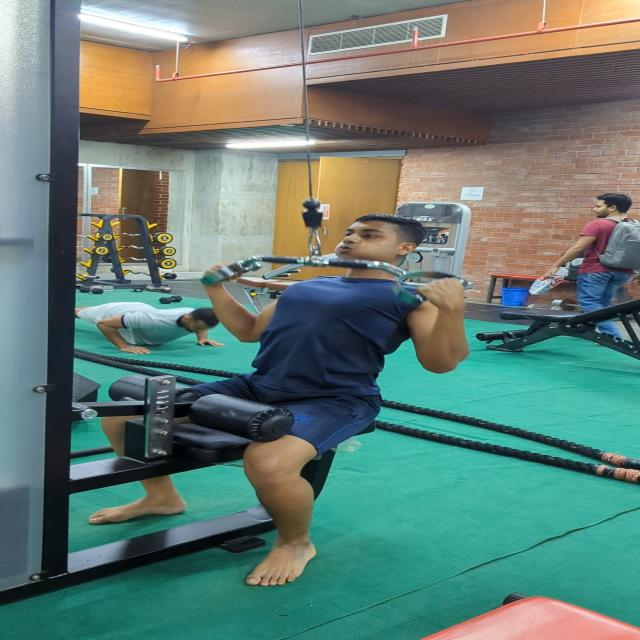Normal_LatPulldown: (86, 198, 483, 590)
